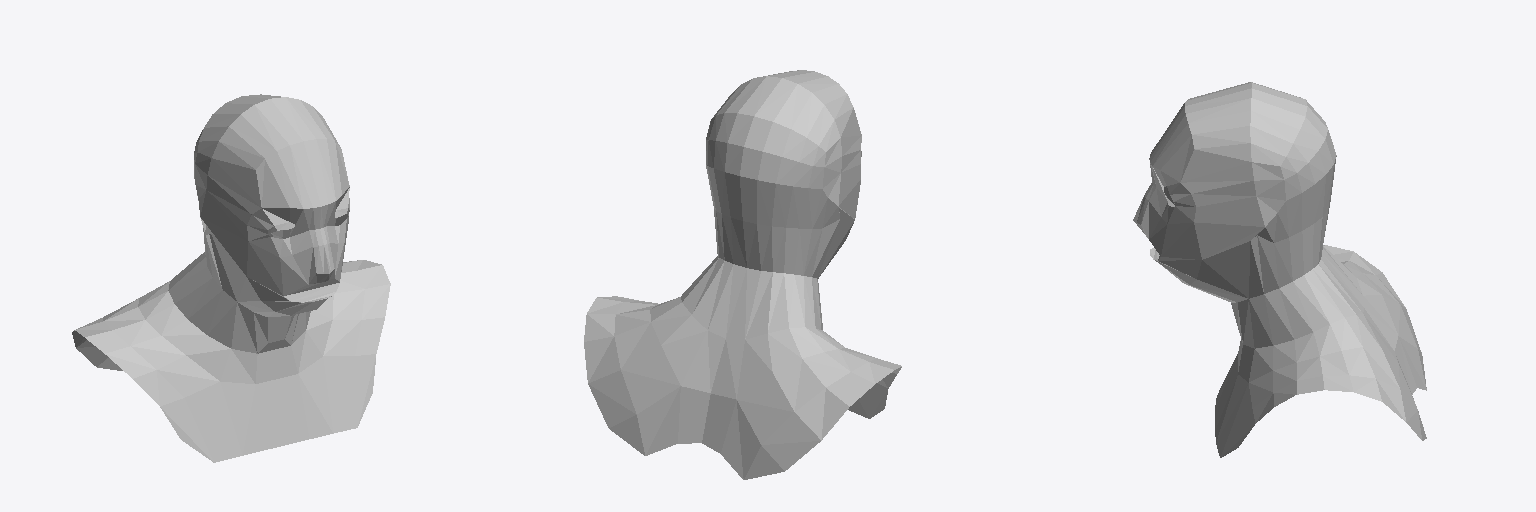
The model's file is RFrown.obj.
3 views of the same model, side by side, from view 1: azimuth 30°, elevation 25°; view 2: azimuth 150°, elevation 25°; view 3: azimuth 270°, elevation 25° (orthographic).
Parts seen in each view (by area): view 1: Rfrown Blendshapes; view 2: Rfrown Blendshapes; view 3: Rfrown Blendshapes.
Part boxes in pixels (x1,y1,x2,y2): Rfrown Blendshapes: (72,94,390,462); Rfrown Blendshapes: (584,70,901,479); Rfrown Blendshapes: (1133,82,1426,457).
Size of the model in its own units: 449 by 482 by 383.